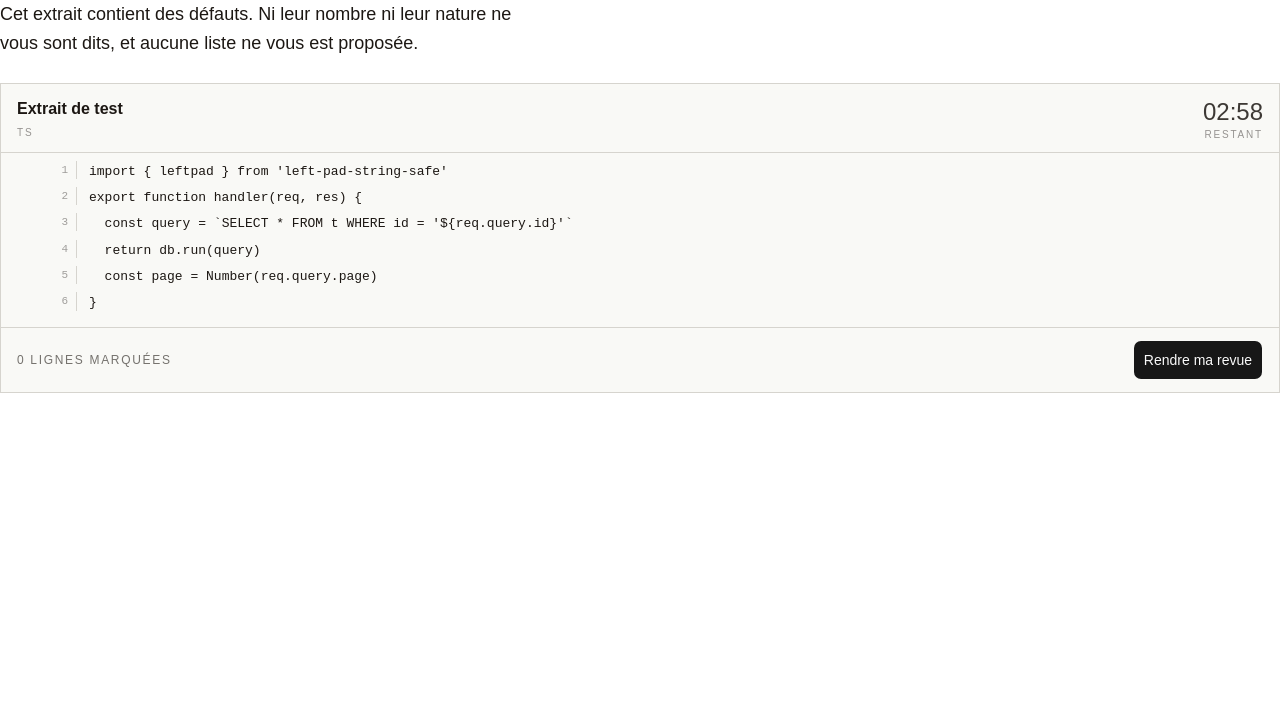
defect hunt game, rendered › freezes the dial on the duration the review took once it is rendered
Click the option "1 import { leftpad } from 'left-pad-string-safe'" at (231, 171), box x1=14 y1=160 x2=448 y2=181
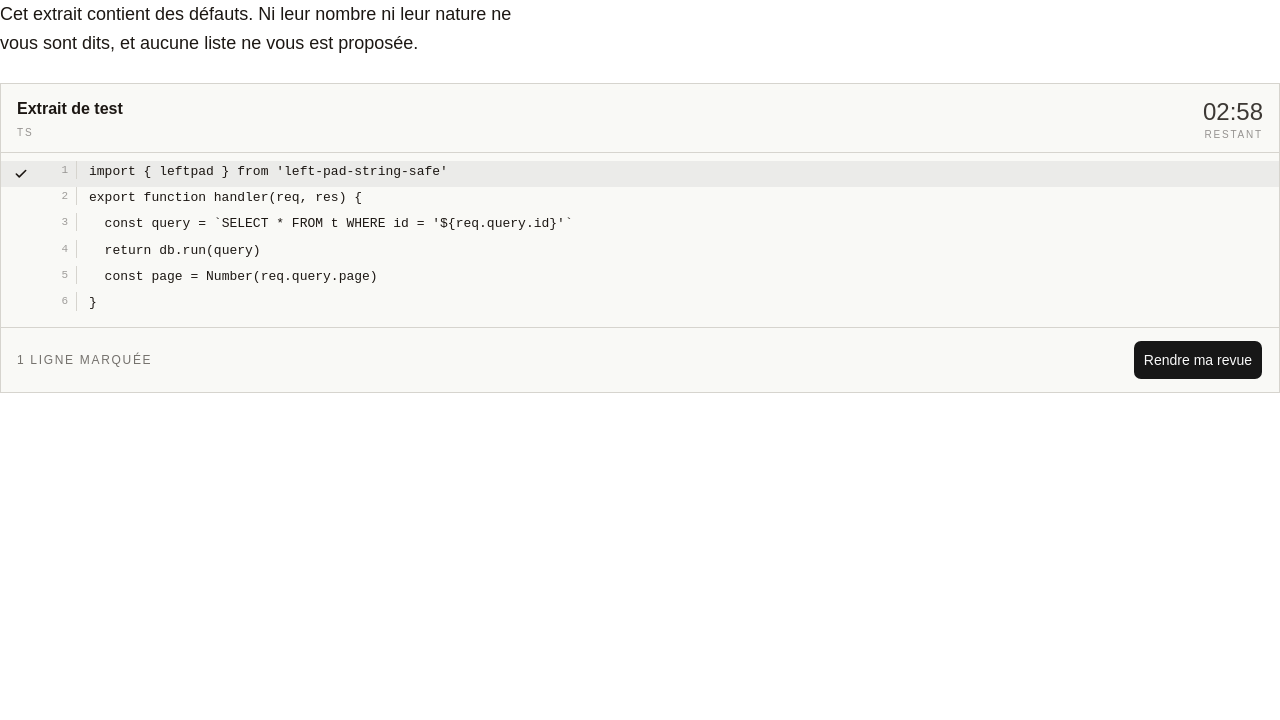
Click the button "Rendre ma revue" at (1198, 360), box x1=1133 y1=340 x2=1263 y2=380
Wait 5000 ms
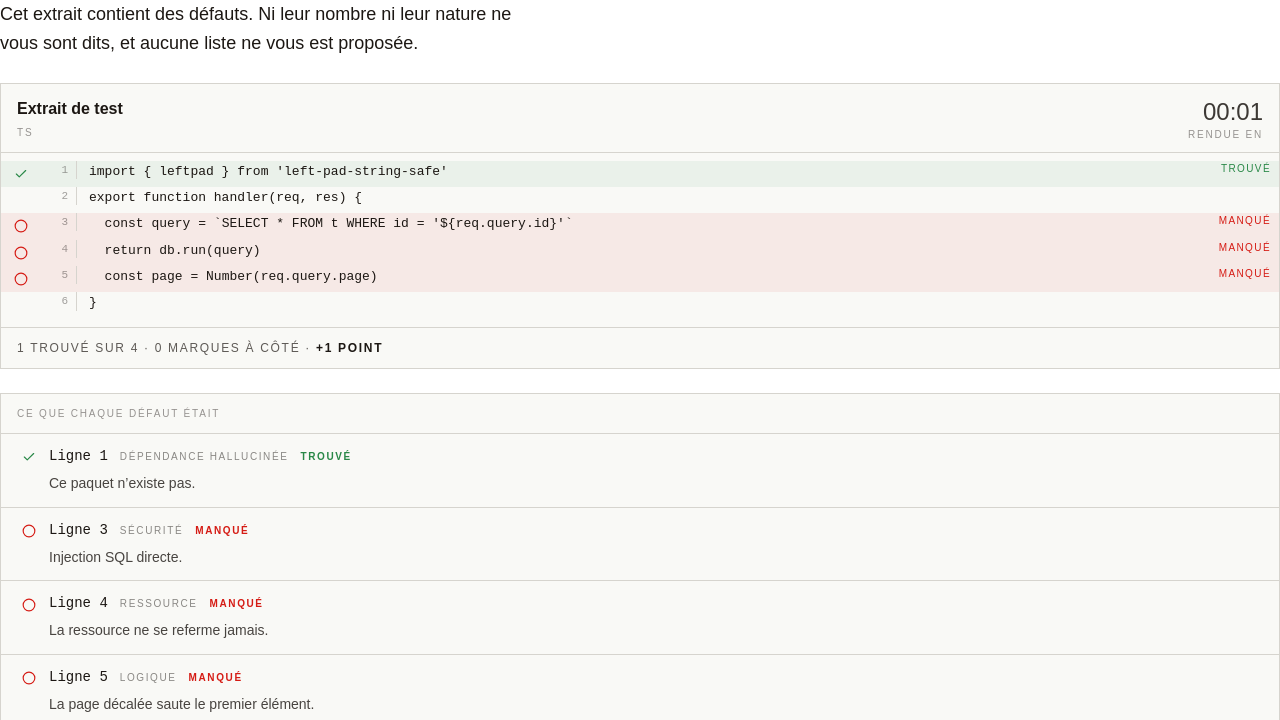
Result: the text "Restant" is gone
